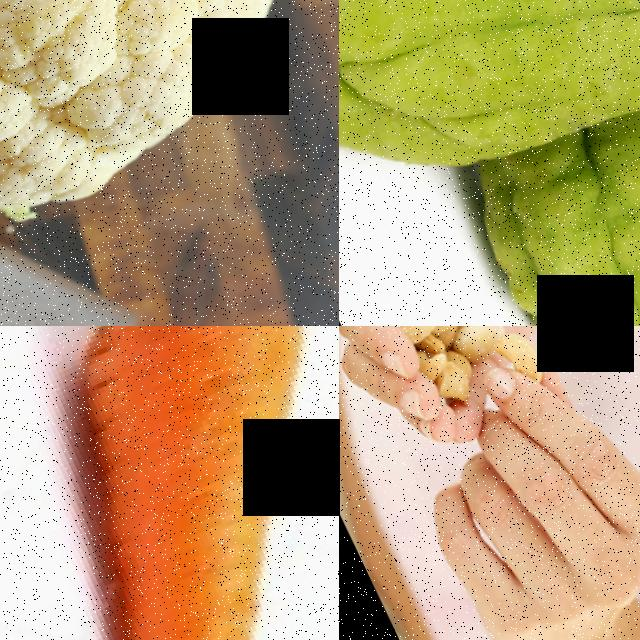carrot: (0, 326, 339, 640)
cashew: (476, 326, 549, 382), (376, 326, 445, 347)
cauliflower: (0, 0, 339, 320)
chayote: (339, 0, 640, 216), (454, 70, 640, 326)
